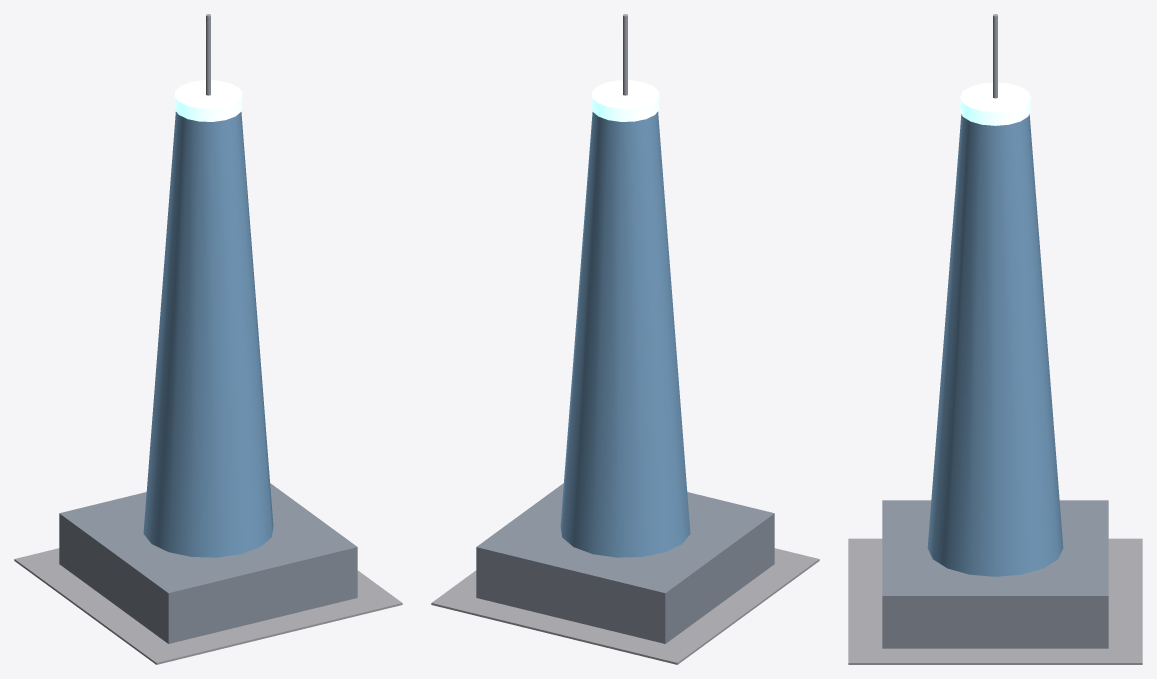
Rendered from hq_5_glass_spire.glb.
3 renders of one model, left to right at view 1: azimuth 30°, elevation 25°; view 2: azimuth 150°, elevation 25°; view 3: azimuth 270°, elevation 25°, orthographic. The views are drawn at different scales.
Visible parts, largest first — view 1: Spire, Podium, Plaza, Crown; view 2: Spire, Podium, Plaza, Crown; view 3: Spire, Podium, Plaza, Crown.
Boxes of the visible parts, x1=… form: Spire: x1=143, y1=112, x2=273, y2=557; Podium: x1=59, y1=483, x2=357, y2=643; Plaza: x1=14, y1=548, x2=402, y2=664; Crown: x1=174, y1=80, x2=242, y2=121; Spire: x1=560, y1=112, x2=690, y2=557; Podium: x1=476, y1=483, x2=774, y2=643; Plaza: x1=431, y1=548, x2=819, y2=664; Crown: x1=591, y1=80, x2=659, y2=121; Spire: x1=927, y1=114, x2=1063, y2=576; Podium: x1=882, y1=500, x2=1108, y2=648; Plaza: x1=848, y1=538, x2=1142, y2=664; Crown: x1=960, y1=82, x2=1030, y2=125.
Size of the model in its own units: 3.9 by 8.6 by 3.9.
